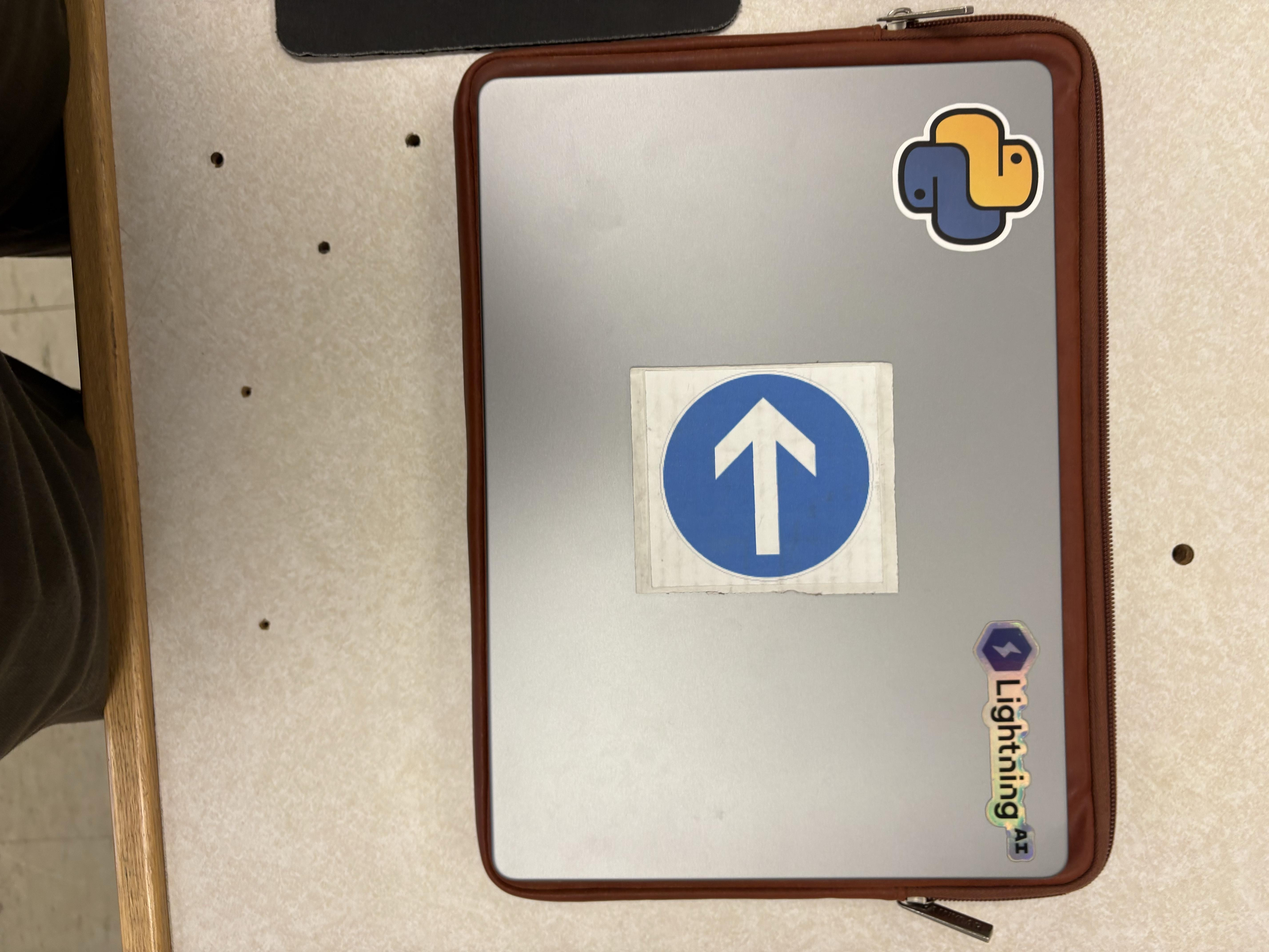Proceed Forward: (633, 361, 900, 597)
